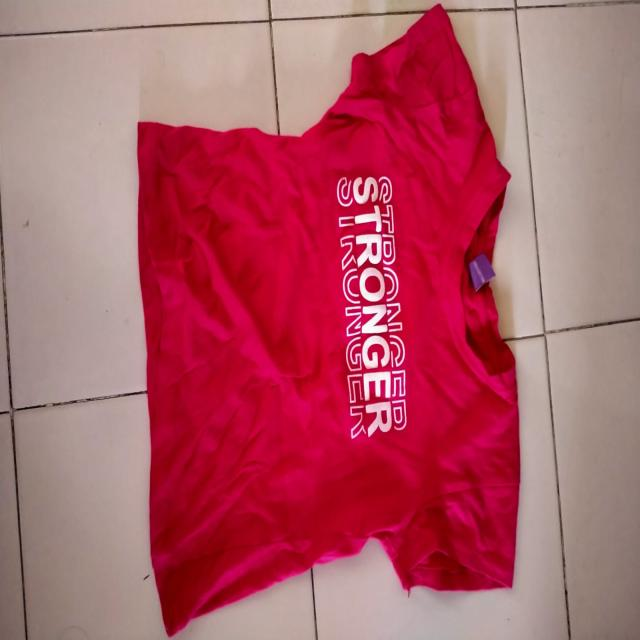Tshirt: (138, 4, 522, 640)
